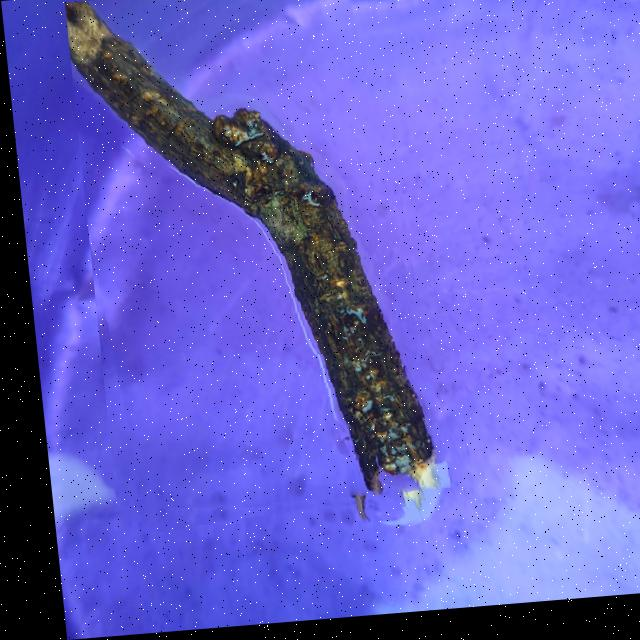wood: (64, 0, 431, 531)
